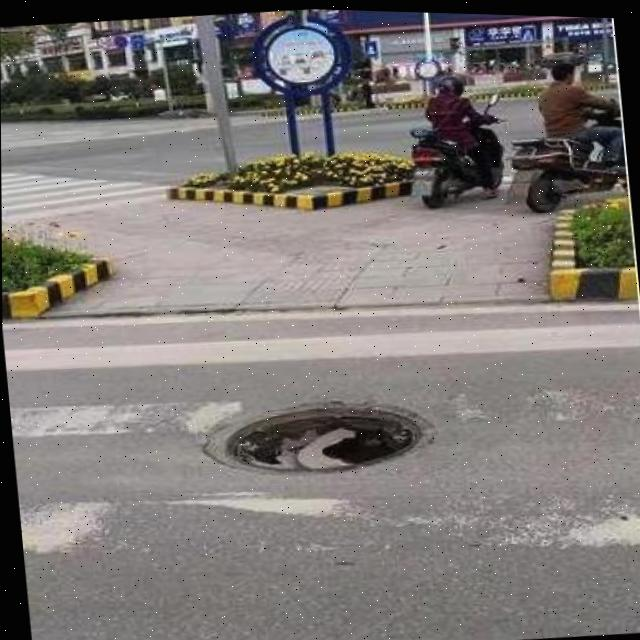manhole: (189, 382, 442, 483)
